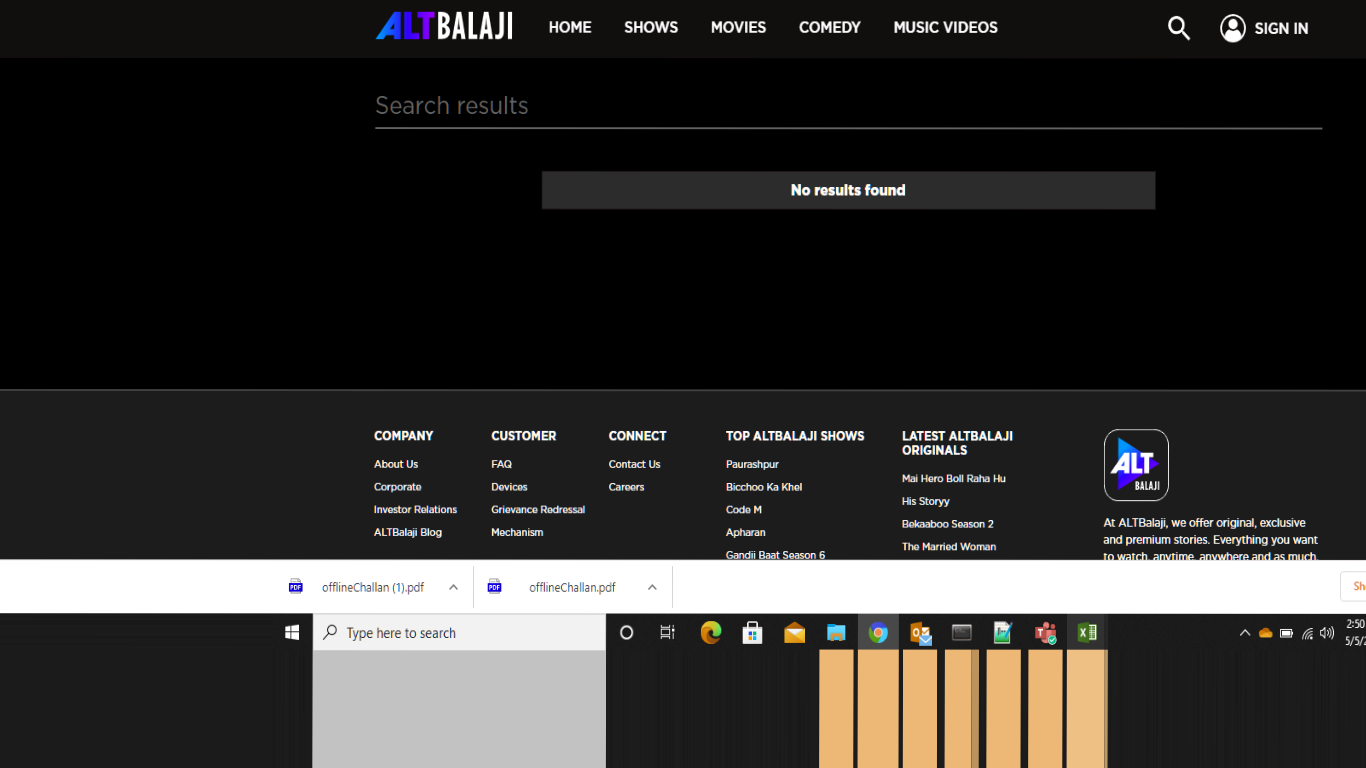noresultsfound: (529, 159, 1163, 226)
profileicon: (1215, 3, 1323, 45)
searchicon: (1157, 7, 1203, 44)
searchtextbox: (364, 74, 1330, 155)
